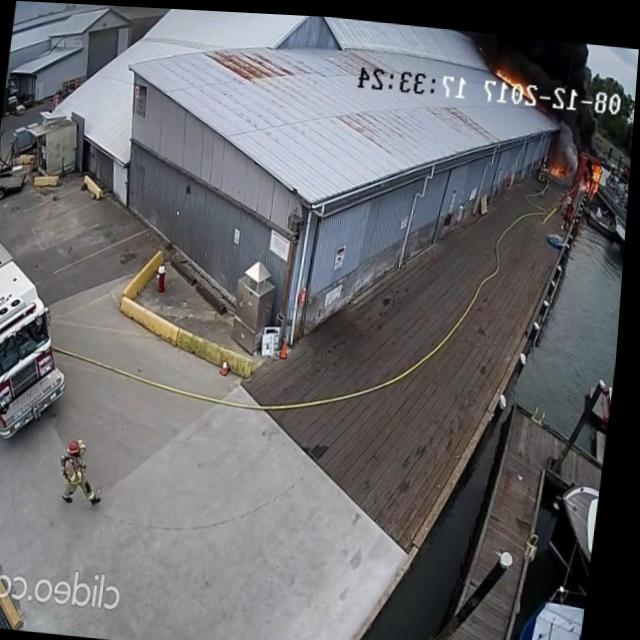fire: (492, 57, 536, 91), (581, 153, 610, 195), (546, 154, 572, 175)
